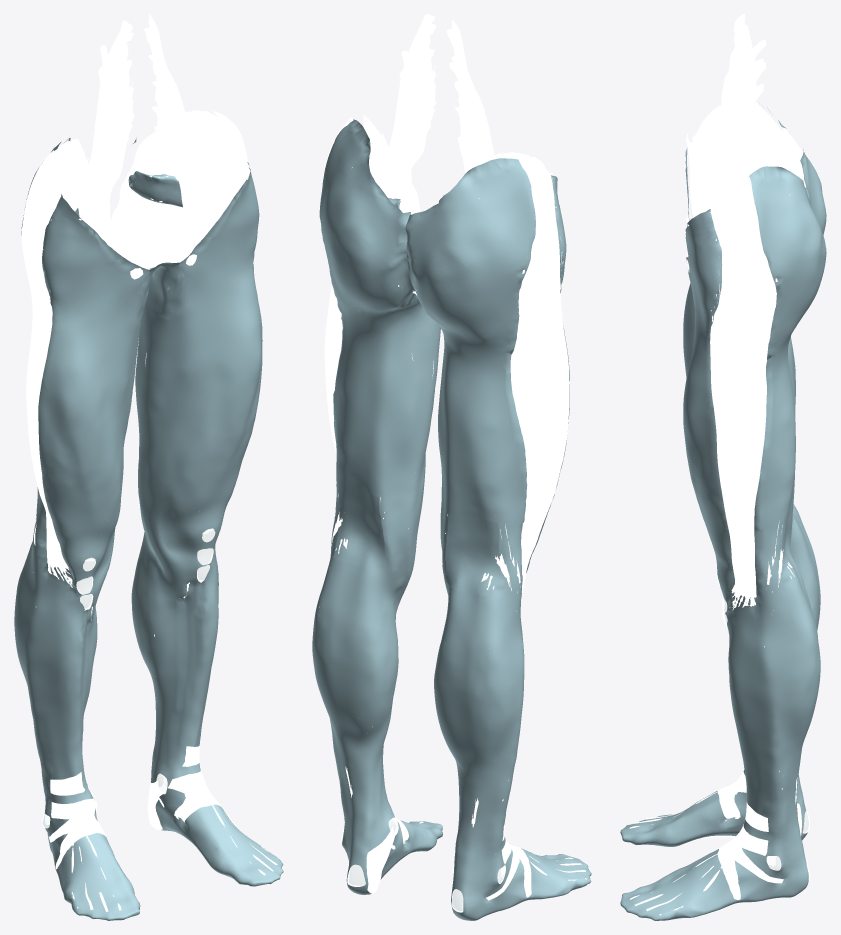
File: atlas_membre_inferieur_muscles_tendons.glb
3 views of the same model, side by side, from view 1: azimuth 30°, elevation 25°; view 2: azimuth 150°, elevation 25°; view 3: azimuth 270°, elevation 25° (orthographic). The views are drawn at different scales.
Visible parts, largest first — view 1: Fascia lata.l, Fascia lata.r, Crural fascia.l, Crural fascia.r, Iliotibial tract.r, Psoas major.r, Psoas major.l, Iliacus muscle.l, Gluteus maximus muscle.l, Iliacus muscle.r, Piriformis fascia.l, Obturator internus.l (+4 smaller); view 2: Fascia lata.r, Fascia lata.l, Crural fascia.r, Crural fascia.l, Iliotibial tract.r, Psoas major.l, Popliteal fascia.r, Popliteal fascia.l, Psoas major.r, Iliotibial tract.l, Iliacus muscle.l, Flexor retinaculum of ankle.l; view 3: Fascia lata.l, Crural fascia.l, Iliotibial tract.l, Crural fascia.r, Psoas major.l, Fascia lata.r, Iliacus muscle.r, Psoas major.r, Gluteus medius muscle.r, Superior fibular retinaculum.l, Iliacus muscle.l, Popliteal fascia.l (+5 smaller).
Boxes of the visible parts, <box> form: Fascia lata.l: <box>133,137,262,542</box>; Fascia lata.r: <box>21,138,161,573</box>; Crural fascia.l: <box>131,517,283,886</box>; Crural fascia.r: <box>14,542,140,920</box>; Iliotibial tract.r: <box>21,150,72,587</box>; Psoas major.r: <box>86,20,134,251</box>; Psoas major.l: <box>144,14,202,241</box>; Iliacus muscle.l: <box>185,110,242,240</box>; Gluteus maximus muscle.l: <box>111,131,188,268</box>; Iliacus muscle.r: <box>63,139,109,245</box>; Piriformis fascia.l: <box>128,171,182,207</box>; Obturator internus.l: <box>153,211,185,260</box>; Fascia lata.r: <box>405,158,569,597</box>; Fascia lata.l: <box>319,119,440,566</box>; Crural fascia.r: <box>434,579,591,920</box>; Crural fascia.l: <box>312,554,442,894</box>; Iliotibial tract.r: <box>510,160,569,597</box>; Psoas major.l: <box>388,14,436,214</box>; Popliteal fascia.r: <box>445,514,500,596</box>; Popliteal fascia.l: <box>333,484,387,568</box>; Psoas major.r: <box>446,20,494,173</box>; Iliotibial tract.l: <box>319,117,353,454</box>; Iliacus muscle.l: <box>363,115,411,214</box>; Flexor retinaculum of ankle.l: <box>366,828,395,893</box>; Fascia lata.l: <box>683,166,826,597</box>; Crural fascia.l: <box>620,570,820,920</box>; Iliotibial tract.l: <box>710,177,776,610</box>; Crural fascia.r: <box>620,512,820,846</box>; Psoas major.l: <box>718,26,766,186</box>; Fascia lata.r: <box>683,109,826,416</box>; Iliacus muscle.r: <box>693,105,763,206</box>; Psoas major.r: <box>702,14,766,202</box>; Gluteus medius muscle.r: <box>757,105,789,167</box>; Superior fibular retinaculum.l: <box>717,833,783,883</box>; Iliacus muscle.l: <box>694,163,763,216</box>; Popliteal fascia.l: <box>782,497,798,583</box>.
Bounding box in the file's own units: 0.3223 × 1.15 × 0.2518.
